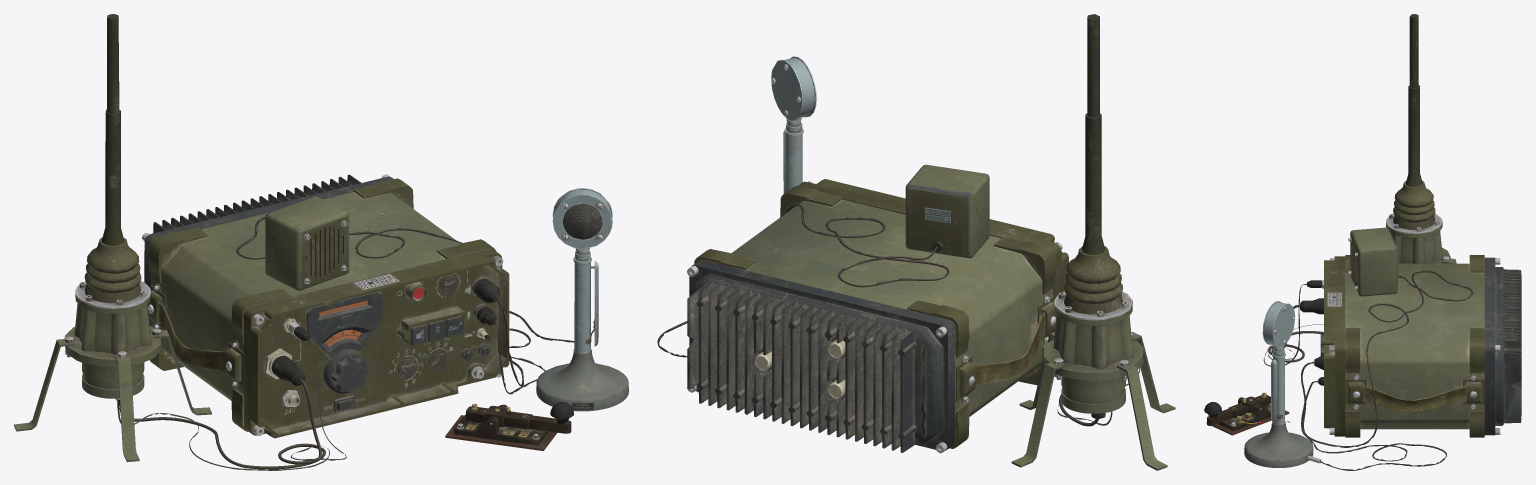
Rendered from vintage_radio_transceiver_1k.glb.
3 views of the same model, side by side, from view 1: azimuth 30°, elevation 25°; view 2: azimuth 150°, elevation 25°; view 3: azimuth 270°, elevation 25° (orthographic). The views are drawn at different scales.
Visible parts, largest first — view 1: vintage_radio_transceiver, vintage_radio_transceiver_antenna, vintage_radio_transceiver_microphone, vintage_radio_transceiver_speaker, vintage_radio_transceiver_cables, vintage_radio_transceiver_morse_key_base, vintage_radio_transceiver_morse_key_arm, vintage_radio_transceiver_dial, vintage_radio_transceiver_antenna_plug_a; view 2: vintage_radio_transceiver, vintage_radio_transceiver_antenna, vintage_radio_transceiver_speaker, vintage_radio_transceiver_microphone, vintage_radio_transceiver_cables; view 3: vintage_radio_transceiver, vintage_radio_transceiver_antenna, vintage_radio_transceiver_microphone, vintage_radio_transceiver_speaker, vintage_radio_transceiver_cables, vintage_radio_transceiver_morse_key_arm, vintage_radio_transceiver_morse_key_base.
Part boxes in pixels (x1,y1,x2,y2): vintage_radio_transceiver: [142, 174, 509, 438]; vintage_radio_transceiver_antenna: [14, 14, 211, 462]; vintage_radio_transceiver_microphone: [536, 188, 628, 411]; vintage_radio_transceiver_speaker: [265, 196, 349, 290]; vintage_radio_transceiver_cables: [117, 217, 574, 470]; vintage_radio_transceiver_morse_key_base: [445, 404, 557, 450]; vintage_radio_transceiver_morse_key_arm: [466, 402, 573, 433]; vintage_radio_transceiver_dial: [323, 329, 369, 393]; vintage_radio_transceiver_antenna_plug_a: [271, 355, 305, 385]; vintage_radio_transceiver: [687, 179, 1068, 453]; vintage_radio_transceiver_antenna: [1011, 14, 1175, 470]; vintage_radio_transceiver_speaker: [905, 164, 989, 258]; vintage_radio_transceiver_microphone: [771, 56, 816, 193]; vintage_radio_transceiver_cables: [657, 204, 1139, 426]; vintage_radio_transceiver: [1324, 255, 1521, 437]; vintage_radio_transceiver_antenna: [1386, 14, 1456, 263]; vintage_radio_transceiver_microphone: [1244, 301, 1321, 467]; vintage_radio_transceiver_speaker: [1348, 227, 1397, 296]; vintage_radio_transceiver_cables: [1263, 270, 1473, 470]; vintage_radio_transceiver_morse_key_arm: [1204, 392, 1270, 425]; vintage_radio_transceiver_morse_key_base: [1206, 397, 1289, 435].
Size of the model in its own units: 0.574 by 0.4344 by 0.4131.
Materials: 2 (2 with a texture image).
